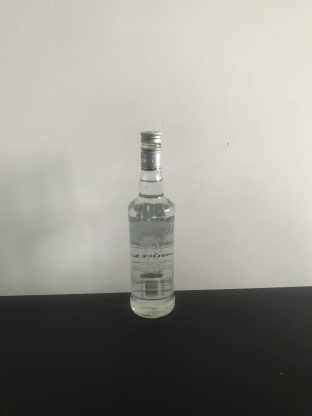nakretka: (138, 129, 162, 171)
